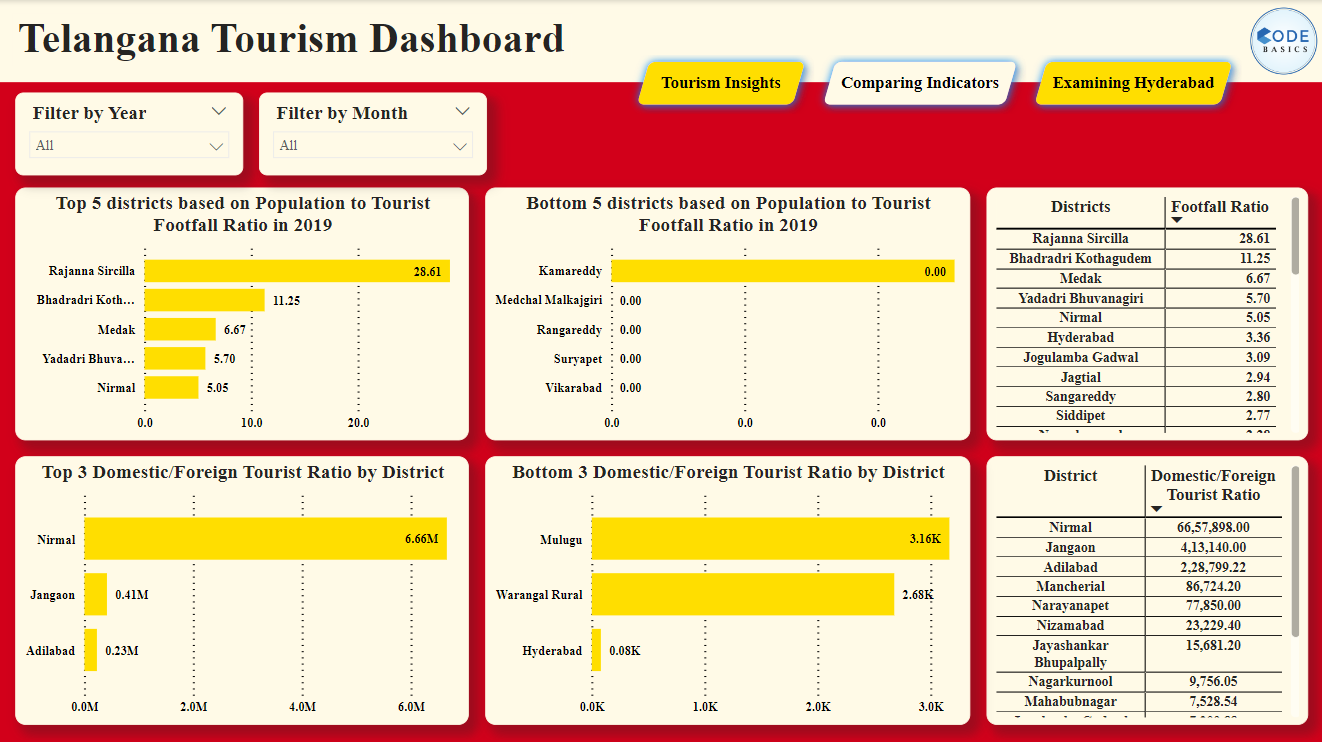

The dashboard page shown, as its layout file describes it:
{"tool":"powerbi","page":{"name":"Comparing Indicators","canvas":[1280,720],"ordinal":1},"visuals":[{"type":"shape","box":[0,0,1280,79.6],"z":0},{"type":"image","box":[1200,0,79.6,79.6],"z":1000},{"type":"slicer","fields":{"Values":["Final Data.year"]},"box":[15.7,89.2,220,80],"z":2000,"group":"g1"},{"type":"actionButton","box":[606.5,50.8,179.8,59],"z":2000},{"type":"slicer","fields":{"Values":["Final Data.month"]},"box":[250.9,89.2,220,80],"z":3000,"group":"g1"},{"type":"actionButton","box":[786.3,50.8,204.5,59],"z":3000},{"type":"actionButton","box":[990.7,50.8,208.6,59],"z":4000},{"type":"barChart","title":"Top 5 districts based on Population to Tourist Footfall Ratio in 2019","fields":{"Category":["Demographics.Districts"],"Y":["Sum(Demographics.Total Visitors/Total Population)"]},"box":[15.1,181.1,437.7,244.3],"z":5000},{"type":"barChart","title":"Bottom 5 districts based on Population to Tourist Footfall Ratio in 2019","fields":{"Category":["Demographics.Districts"],"Y":["Sum(Demographics.Total Visitors/Total Population)"]},"box":[468.6,181.1,467.9,244.3],"z":6000},{"type":"tableEx","fields":{"Values":["Demographics.Districts","Demographics.Total Visitors/Total Population"]},"box":[952.3,181.1,310.1,244.3],"z":7000},{"type":"barChart","title":"Top 3 Domestic/Foreign Tourist Ratio by District","fields":{"Category":["Final Data.district"],"Y":["Key Measures.Domestic/Foreign Tourist Ratio"]},"box":[15.1,440.5,437.7,259.3],"z":8000},{"type":"tableEx","fields":{"Values":["Final Data.district","Key Measures.Domestic/Foreign Tourist Ratio"]},"box":[952.3,440.5,310.1,259.3],"z":9000},{"type":"barChart","title":"Bottom 3 Domestic/Foreign Tourist Ratio by District","fields":{"Category":["Final Data.district"],"Y":["Key Measures.Domestic/Foreign Tourist Ratio"]},"box":[469.3,440.5,467.9,259.3],"z":10000},{"type":"group","id":"g1","title":"Group 1","box":[15.7,89.2,455.2,80],"z":11000},{"type":"textbox","title":"Telangana Tourism Dashboard","box":[13.7,13.7,539.3,50.8],"z":12000}]}

Visuals, with their boxes in screenshot pixels (x1, y1, x2, y2), scaled from the page's 1280x720 canvas onto the 1322x742 screenshot:
shape: <region>0, 0, 1321, 82</region>
image: <region>1239, 0, 1321, 82</region>
slicer - Final Data.year: <region>16, 92, 243, 174</region>
actionButton: <region>626, 52, 812, 113</region>
slicer - Final Data.month: <region>259, 92, 486, 174</region>
actionButton: <region>812, 52, 1023, 113</region>
actionButton: <region>1023, 52, 1239, 113</region>
"Top 5 districts based on Population to Tourist Footfall Ratio in 2019" barChart: <region>16, 187, 468, 438</region>
"Bottom 5 districts based on Population to Tourist Footfall Ratio in 2019" barChart: <region>484, 187, 967, 438</region>
tableEx - Demographics.Districts x Demographics.Total Visitors/Total Population: <region>984, 187, 1304, 438</region>
"Top 3 Domestic/Foreign Tourist Ratio by District" barChart: <region>16, 454, 468, 721</region>
tableEx - Final Data.district x Key Measures.Domestic/Foreign Tourist Ratio: <region>984, 454, 1304, 721</region>
"Bottom 3 Domestic/Foreign Tourist Ratio by District" barChart: <region>485, 454, 968, 721</region>
"Group 1" group: <region>16, 92, 486, 174</region>
"Telangana Tourism Dashboard" textbox: <region>14, 14, 571, 66</region>
